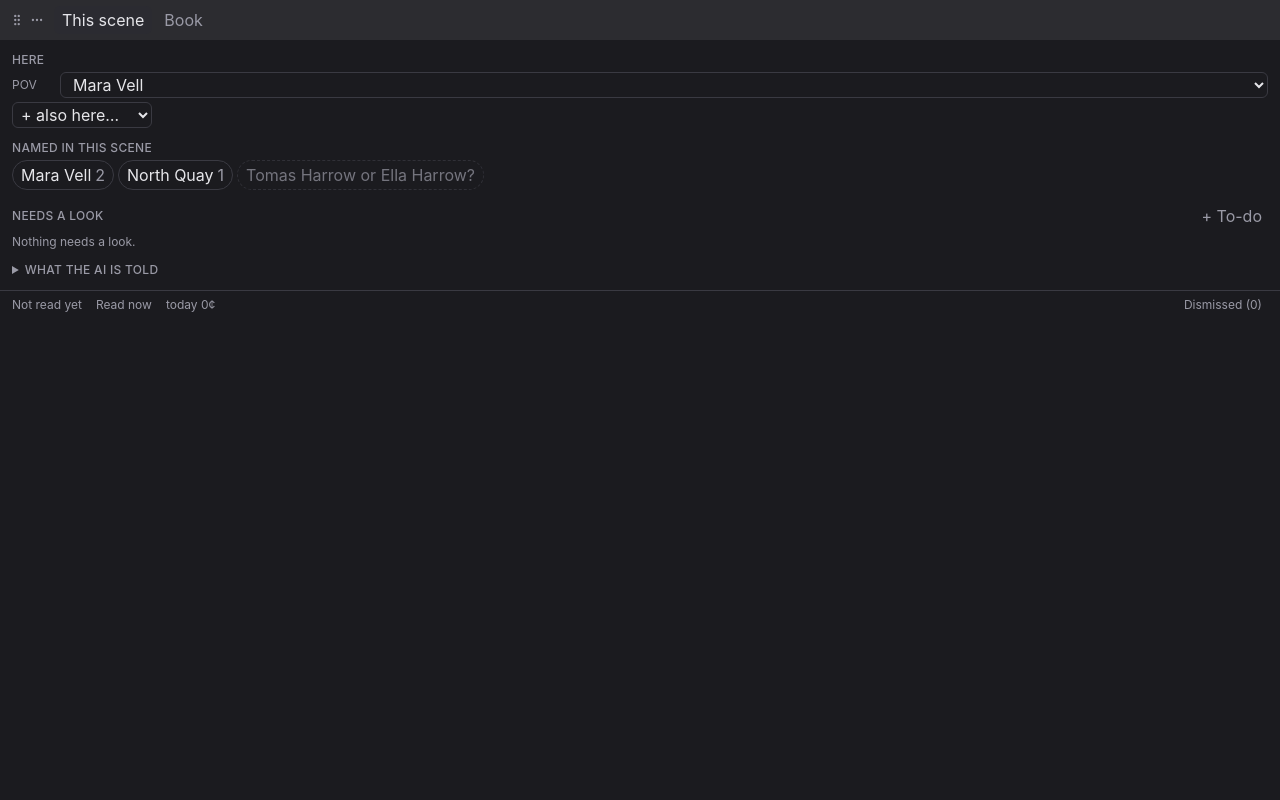
it: ThisScenePanel (F-16.12) › Not a mention removes the chip and lands on Dismissed, whose Undo brings it back
Check: the element with test id "named-chips" is shown, box [12,160,484,190]
Click the button "North Quay 1": (176, 175) [118,160,233,190]
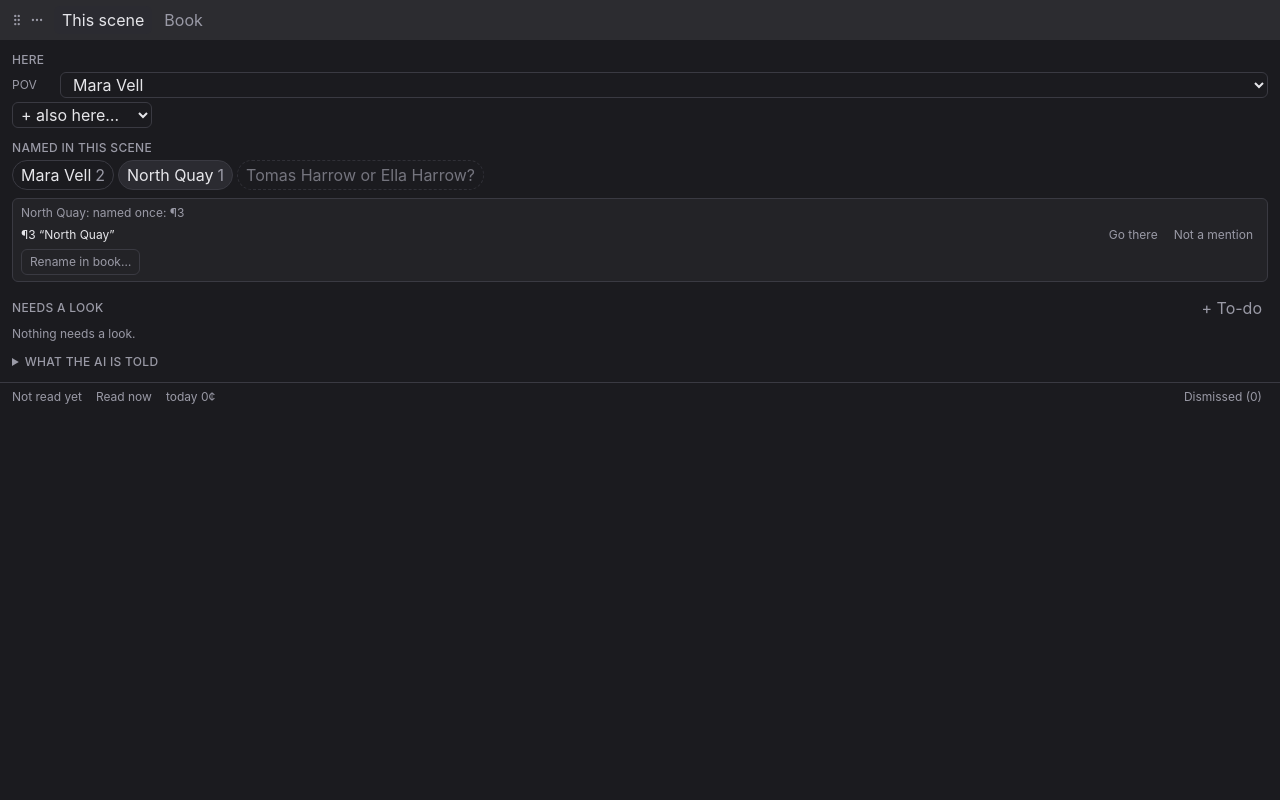
Click the button "Not a mention": (1213, 235) [1168,225,1259,245]
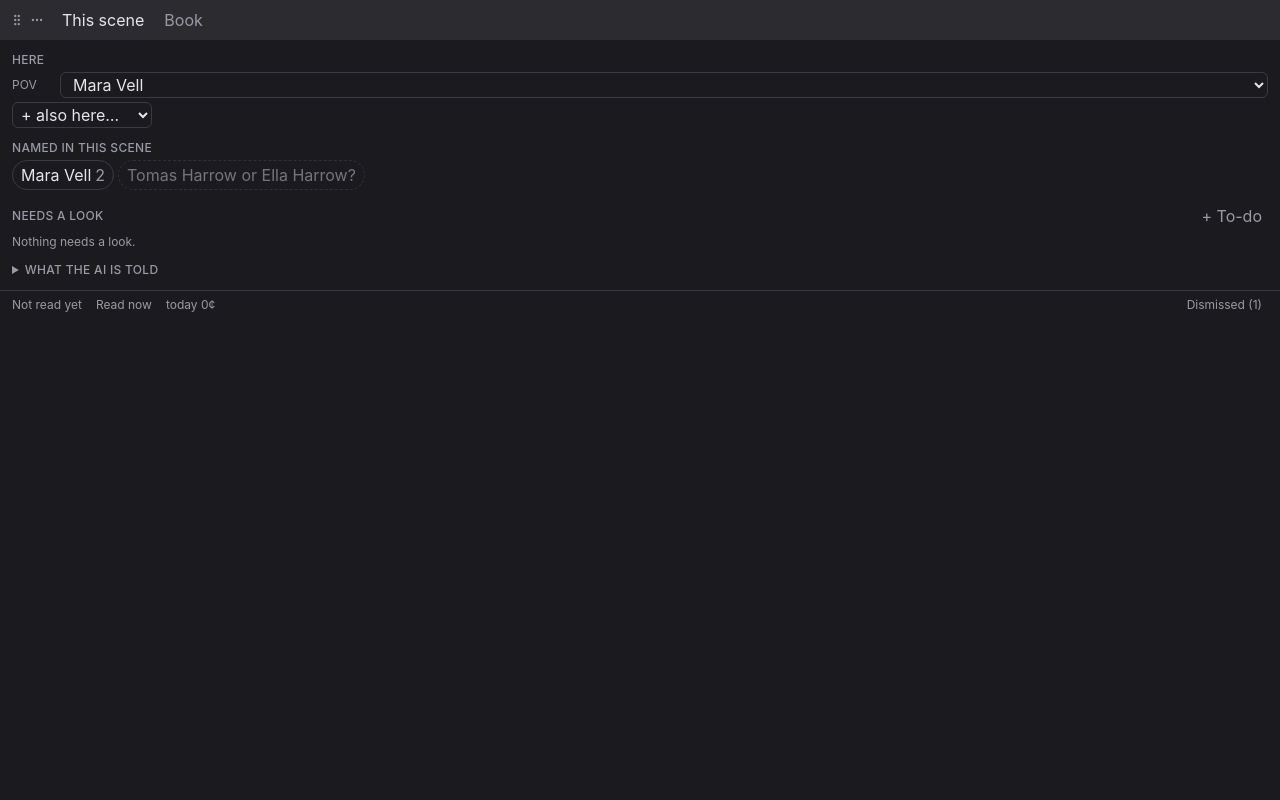
Check: the button "North Quay" is gone
Click the button "Dismissed (1)": (1224, 305) [1181,295,1268,315]
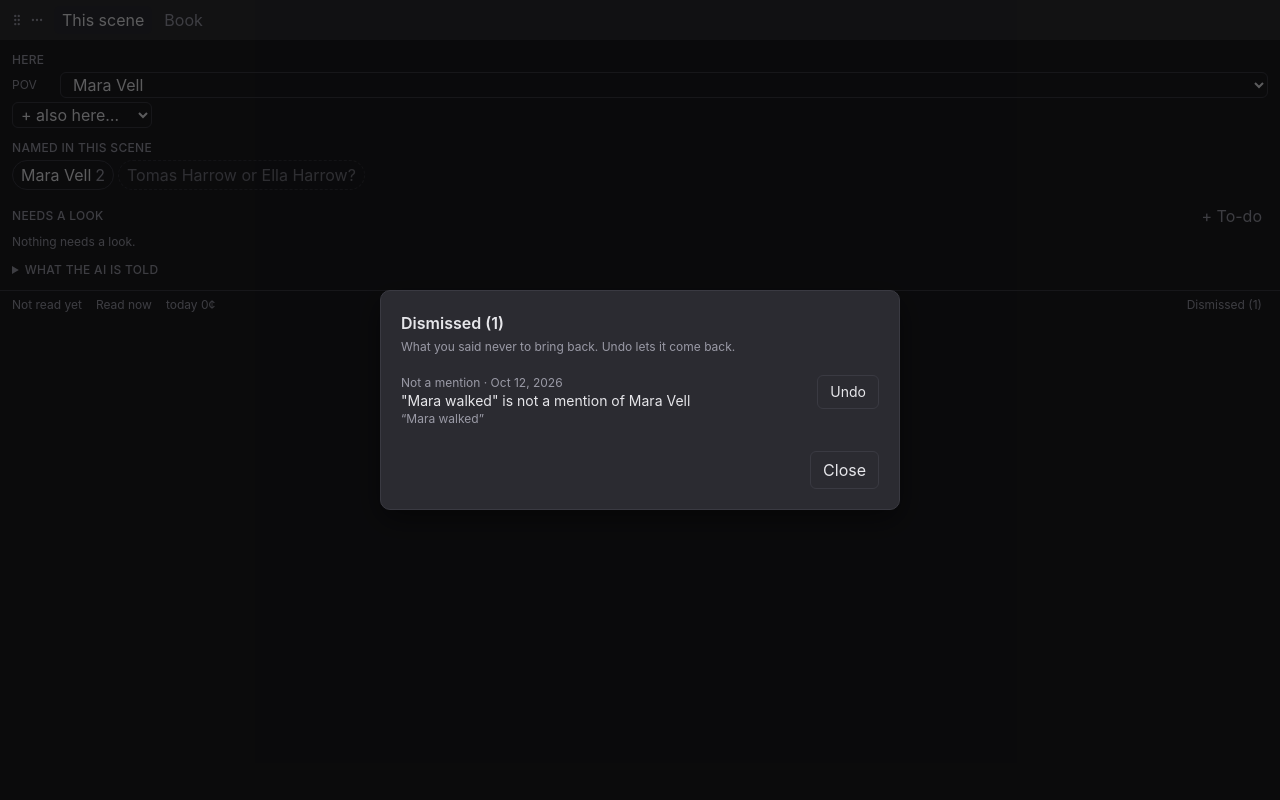
Check: the text "\"Mara walked\" is not a mention of Mara Vell" is shown, box [401,392,690,409]
Click the button "Undo": (848, 392) [817,375,879,409]
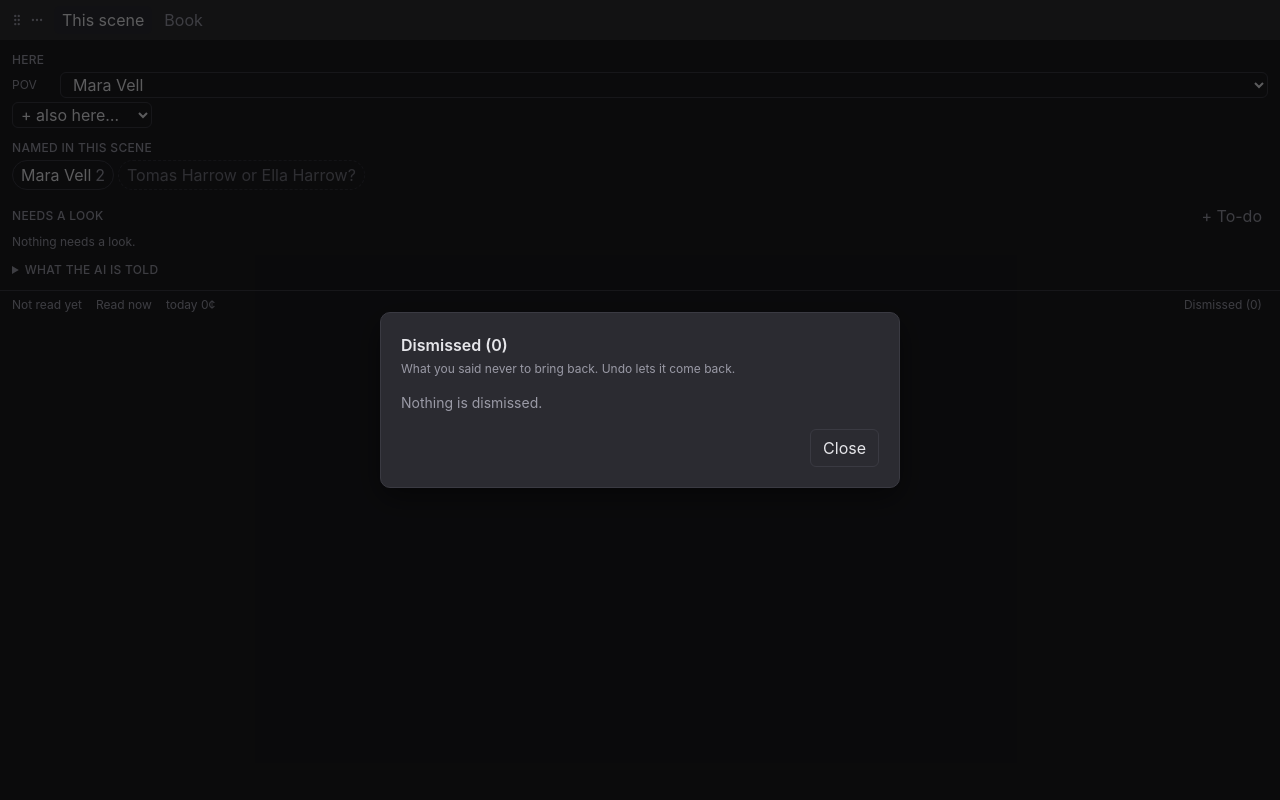
Check: the text "Nothing is dismissed." is shown, box [401,394,542,411]
